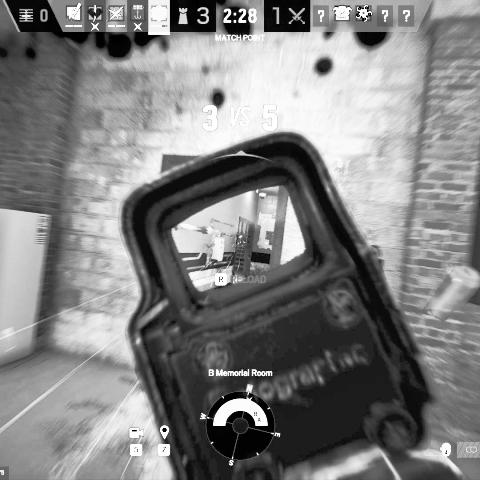Character: (237, 235, 246, 246)
Head: (239, 235, 243, 239)
